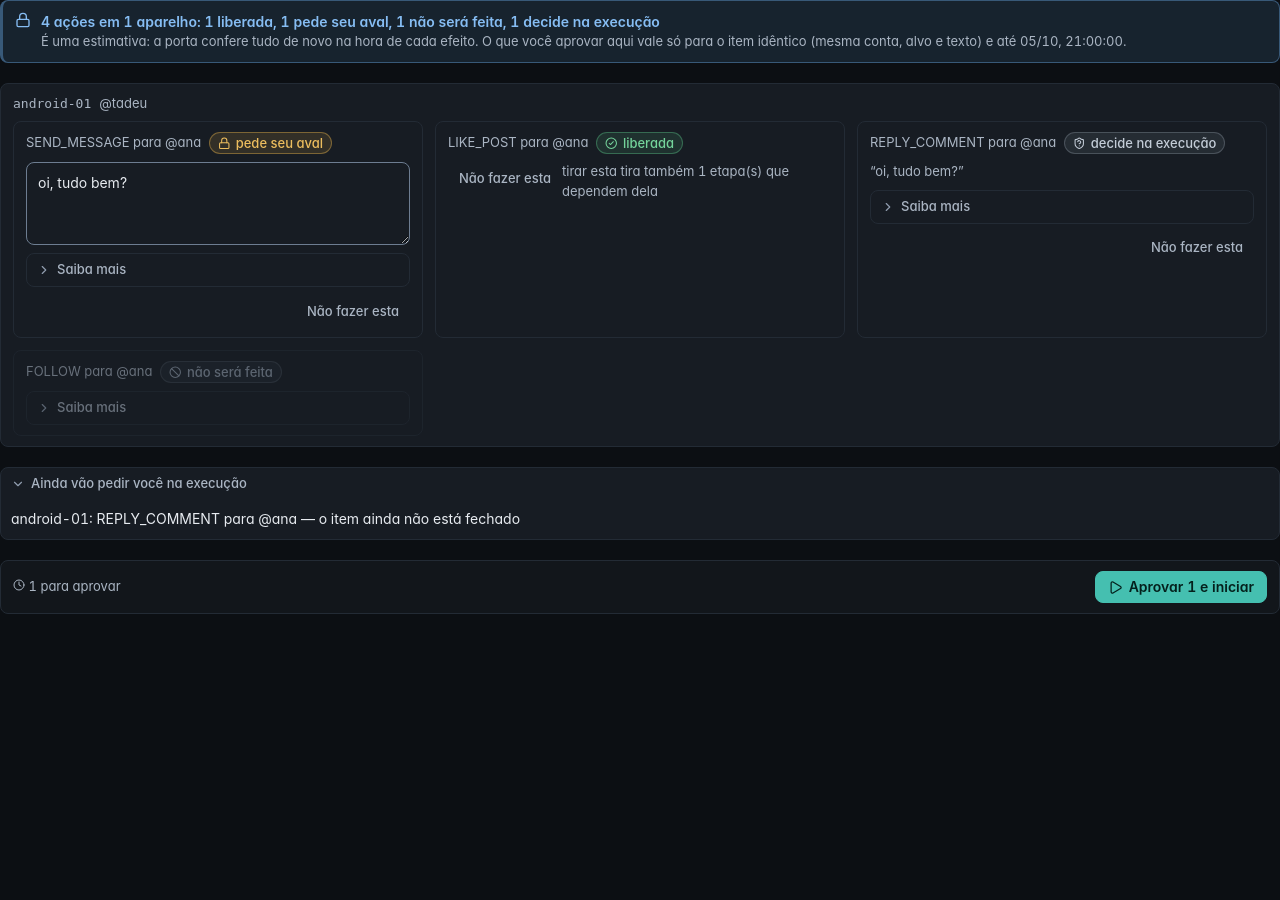
Test: PortaDoPlano (30.61) › plano_mudou mostra o que mudou e troca pela prévia nova, sem gravar
This screenshot has width=1280, height=900.
Click the button "Aprovar 1 e iniciar" at (1181, 587), box [1095, 571, 1267, 603]
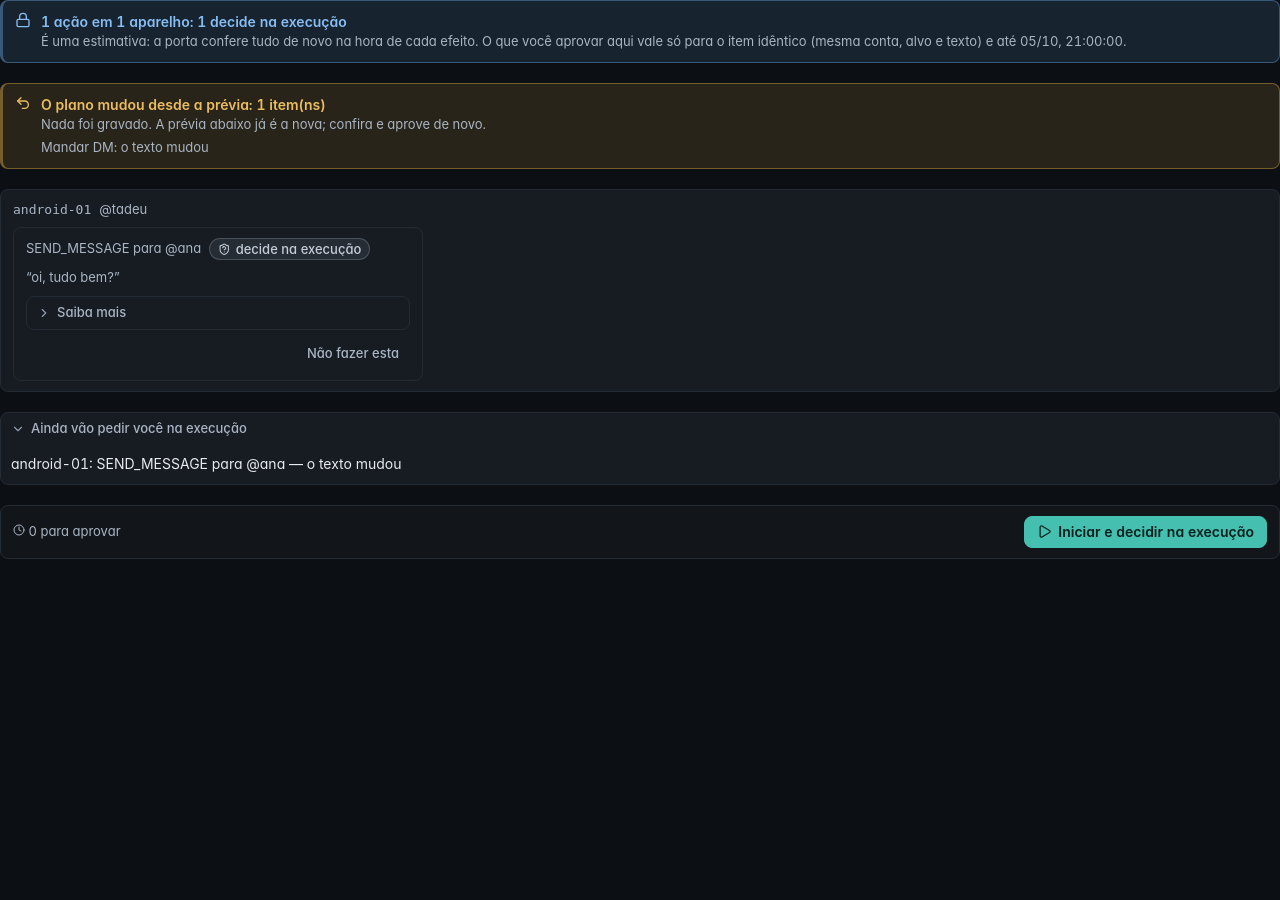
Expected: the button "Iniciar e decidir na execução" is shown, [1024, 516, 1267, 548]
Expected: the element named "Prévia da porta" shows "O plano mudou desde a prévia: 1 item(ns)", [41, 96, 326, 112]
Expected: the element named "Prévia da porta" shows "Mandar DM: o texto mudou"
